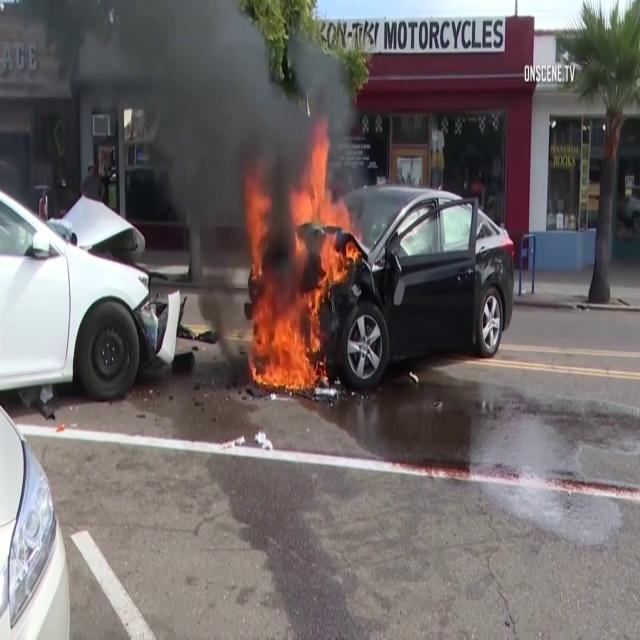Fire: (245, 147, 352, 397)
Smoke: (89, 2, 344, 242)
